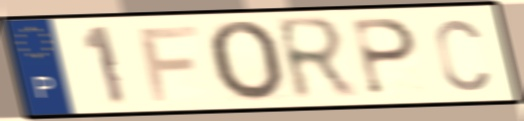1: (80, 22, 131, 108)
C: (432, 16, 492, 94)
F: (135, 22, 203, 104)
O: (204, 18, 288, 104)
P: (349, 17, 420, 98)
R: (271, 13, 362, 105)
